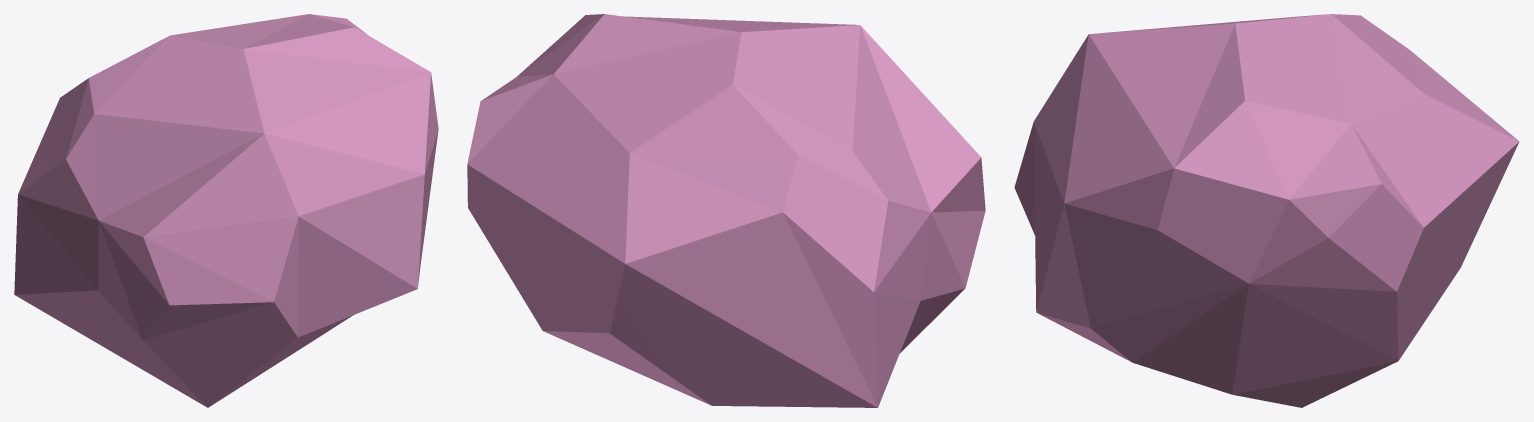
File: item_ore_gold_s.glb
3 views of the same model, side by side, from view 1: azimuth 30°, elevation 25°; view 2: azimuth 150°, elevation 25°; view 3: azimuth 270°, elevation 25° (orthographic). The views are drawn at different scales.
Visible parts, largest first — view 1: Ore_Mineral_Drop_S; view 2: Ore_Mineral_Drop_S; view 3: Ore_Mineral_Drop_S.
Part boxes in pixels (x1,y1,x2,y2): Ore_Mineral_Drop_S: [14, 14, 438, 407]; Ore_Mineral_Drop_S: [467, 14, 985, 407]; Ore_Mineral_Drop_S: [1014, 14, 1519, 407].
Size of the model in its own units: 0.1597 by 0.1332 by 0.1666.
